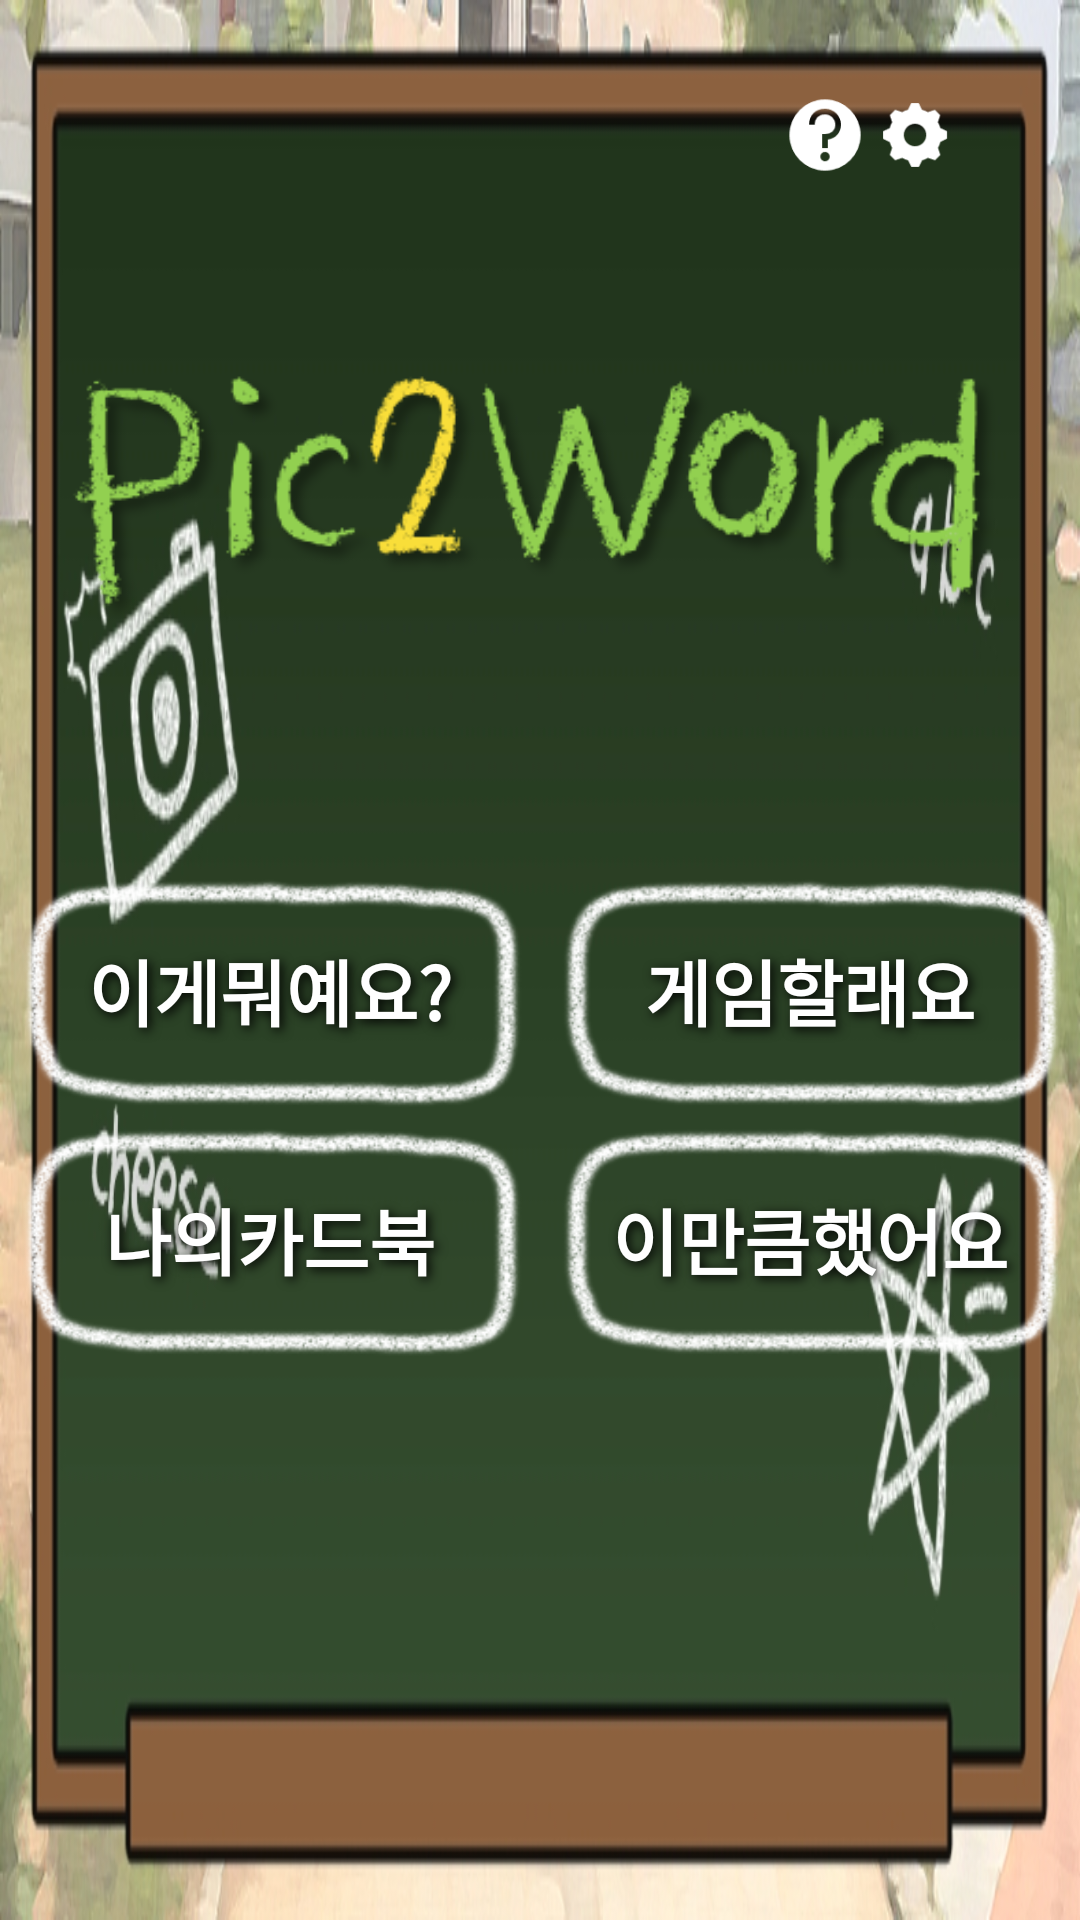

Icons on this 1080px x 1920px Android screen, each with the point to tap as (x=x, y=y):
help: (x=825, y=135)
setting: (x=915, y=135)
